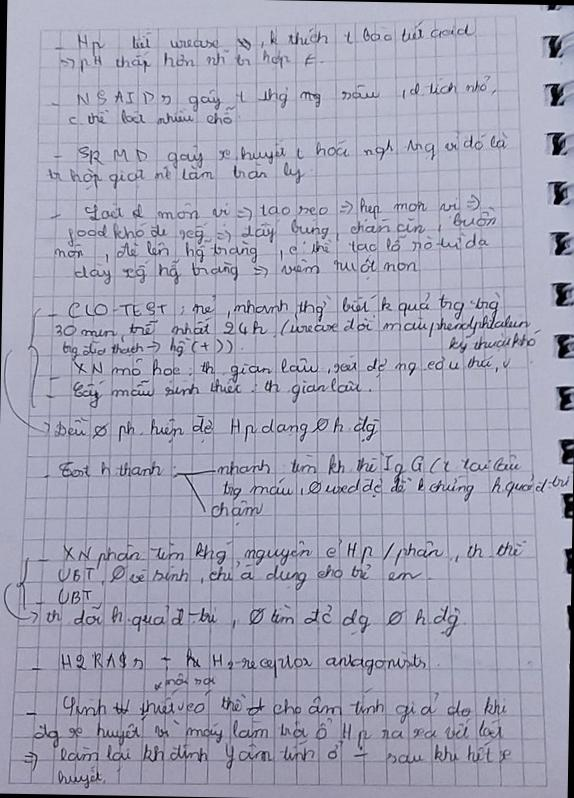text: (62, 198, 502, 254), (31, 708, 506, 758), (76, 121, 513, 175), (74, 64, 500, 118), (59, 682, 511, 732), (64, 281, 504, 331), (58, 528, 532, 574), (50, 224, 494, 272), (52, 306, 534, 349), (40, 596, 466, 642), (73, 12, 479, 60), (53, 736, 512, 778), (79, 185, 484, 232), (68, 346, 512, 386), (54, 556, 428, 597), (66, 368, 368, 418), (56, 641, 428, 681), (220, 466, 573, 508), (69, 250, 421, 292), (47, 410, 383, 448), (215, 445, 524, 484), (44, 154, 308, 196), (73, 41, 320, 78), (56, 332, 236, 363), (67, 102, 242, 130), (57, 455, 166, 484), (446, 326, 544, 354), (207, 498, 266, 528), (154, 670, 218, 695), (54, 766, 107, 788), (50, 585, 94, 608)
